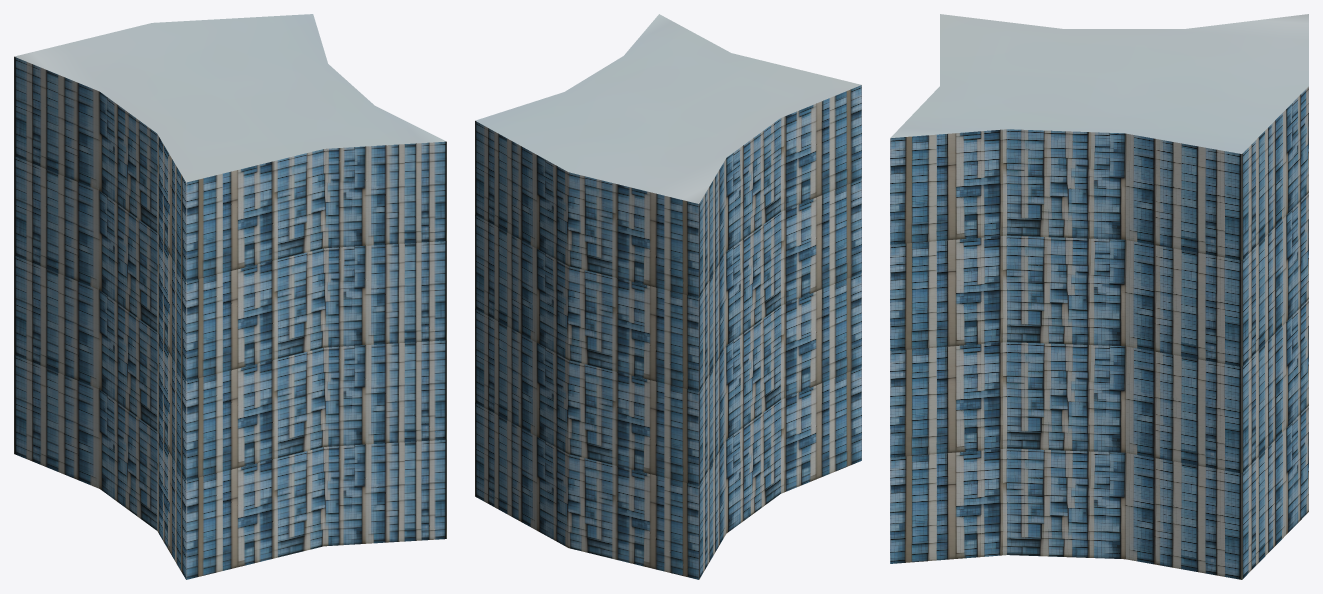
3 renders of one model, left to right at view 1: azimuth 30°, elevation 25°; view 2: azimuth 150°, elevation 25°; view 3: azimuth 270°, elevation 25°, orthographic. The views are drawn at different scales.
Visible parts, largest first — view 1: B7; view 2: B7; view 3: B7.
Boxes of the visible parts, box(x1,y1,x2,y2) form: B7: box(14, 14, 446, 579); B7: box(475, 14, 861, 579); B7: box(890, 14, 1308, 579).
Size of the model in its own units: 1401 by 1985 by 1769.
1 material, 1 textured.
